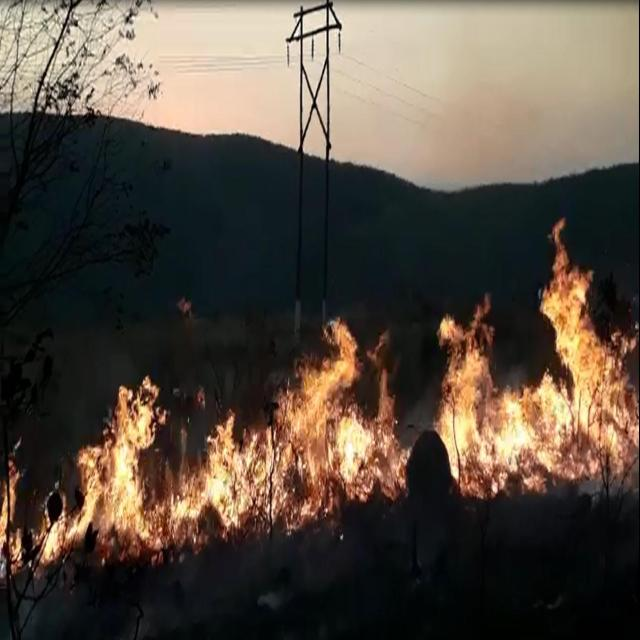fire: (438, 284, 640, 498), (185, 366, 408, 514), (73, 382, 158, 546)
